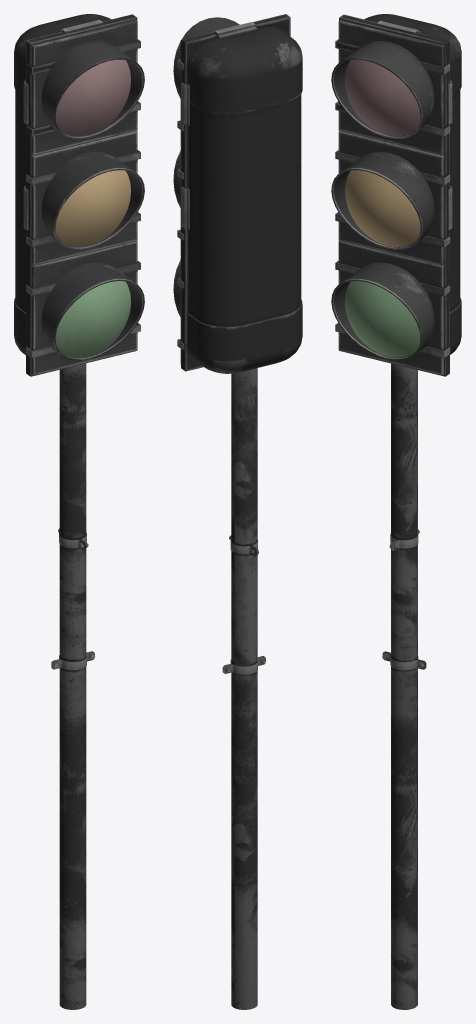
Rendered from trafficlight.glb.
The picture shows the model from 3 angles, left to right: view 1: azimuth 30°, elevation 25°; view 2: azimuth 210°, elevation 25°; view 3: azimuth 330°, elevation 25°; orthographic projection.
Parts seen in each view (by area): view 1: TrafficLight1.109; view 2: TrafficLight1.109; view 3: TrafficLight1.109.
Boxes of the visible parts, box(x1,y1,x2,y2) form: TrafficLight1.109: box(14, 14, 144, 1009); TrafficLight1.109: box(173, 14, 302, 1009); TrafficLight1.109: box(331, 14, 461, 1009).
Size of what is drawn, in the model's own units: 0.3579 by 3.06 by 0.3204.
Materials: 2 (2 with a texture image).
